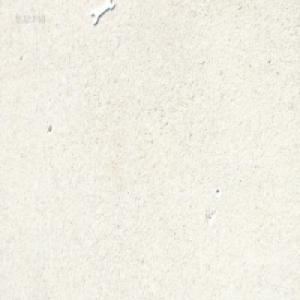Wrench: (90, 2, 113, 27)
